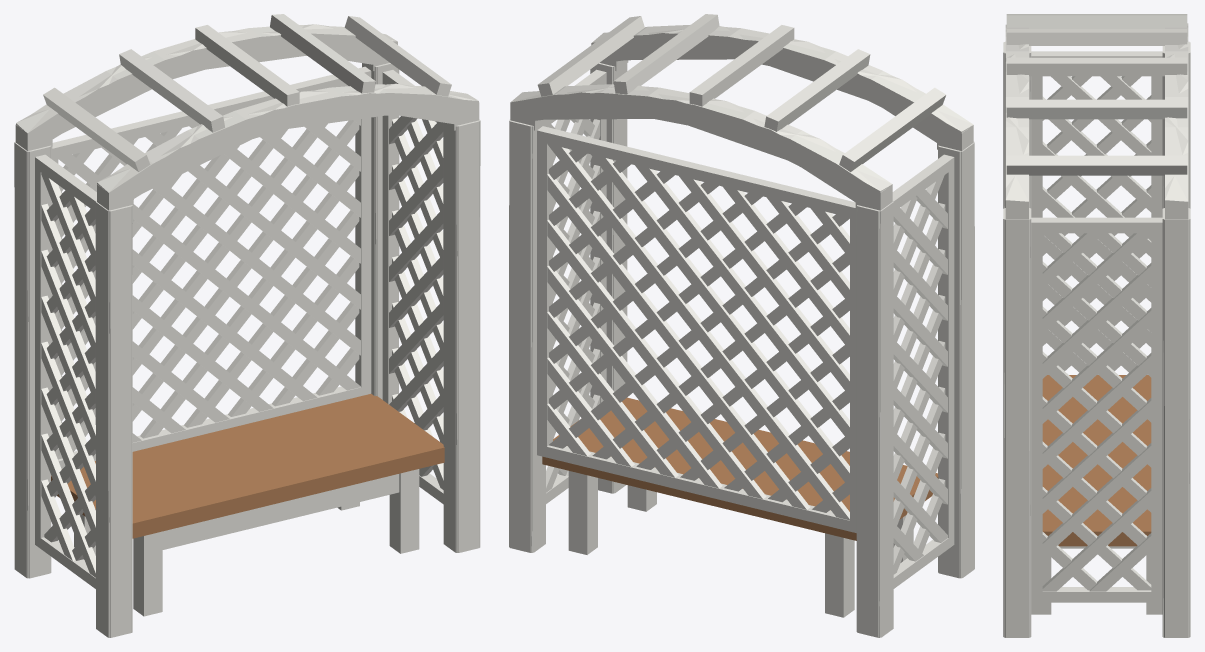
The model's file is FMS_Garden_Arbor_Bench.fbx.
3 renders of one model, left to right at view 1: azimuth 30°, elevation 25°; view 2: azimuth 150°, elevation 25°; view 3: azimuth 270°, elevation 25°, orthographic. The views are drawn at different scales.
Visible parts, largest first — view 1: FMS_Garden_Arbor_Bench_Panels, FMS_Garden_Arbor_Bench_Frame, FMS_Garden_Arbor_Bench_Bench, FMS_Garden_Arbor_Bench_Frame_Low1, FMS_Garden_Arbor_Bench_Panels_Low1, FMS_Garden_Arbor_Bench_Bench_Low1; view 2: FMS_Garden_Arbor_Bench_Panels, FMS_Garden_Arbor_Bench_Frame, FMS_Garden_Arbor_Bench_Frame_Low1, FMS_Garden_Arbor_Bench_Bench, FMS_Garden_Arbor_Bench_Panels_Low1; view 3: FMS_Garden_Arbor_Bench_Panels, FMS_Garden_Arbor_Bench_Frame, FMS_Garden_Arbor_Bench_Bench, FMS_Garden_Arbor_Bench_Frame_Low1, FMS_Garden_Arbor_Bench_Panels_Low1, FMS_Garden_Arbor_Bench_Bench_Low1.
Part boxes in pixels (x1,y1,x2,y2): FMS_Garden_Arbor_Bench_Panels: [35, 66, 443, 588]; FMS_Garden_Arbor_Bench_Frame: [14, 14, 479, 637]; FMS_Garden_Arbor_Bench_Bench: [51, 394, 444, 616]; FMS_Garden_Arbor_Bench_Frame_Low1: [14, 16, 480, 637]; FMS_Garden_Arbor_Bench_Panels_Low1: [35, 67, 443, 588]; FMS_Garden_Arbor_Bench_Bench_Low1: [134, 448, 444, 611]; FMS_Garden_Arbor_Bench_Panels: [537, 69, 954, 588]; FMS_Garden_Arbor_Bench_Frame: [509, 14, 974, 637]; FMS_Garden_Arbor_Bench_Frame_Low1: [509, 16, 974, 637]; FMS_Garden_Arbor_Bench_Bench: [542, 397, 938, 617]; FMS_Garden_Arbor_Bench_Panels_Low1: [537, 71, 953, 586]; FMS_Garden_Arbor_Bench_Panels: [1031, 51, 1162, 602]; FMS_Garden_Arbor_Bench_Frame: [1003, 14, 1190, 637]; FMS_Garden_Arbor_Bench_Bench: [1031, 375, 1162, 614]; FMS_Garden_Arbor_Bench_Frame_Low1: [1004, 15, 1189, 637]; FMS_Garden_Arbor_Bench_Panels_Low1: [1031, 51, 1162, 602]; FMS_Garden_Arbor_Bench_Bench_Low1: [1031, 532, 1132, 614].
Bounding box in the file's own units: 1.8 × 2.3 × 0.8.
